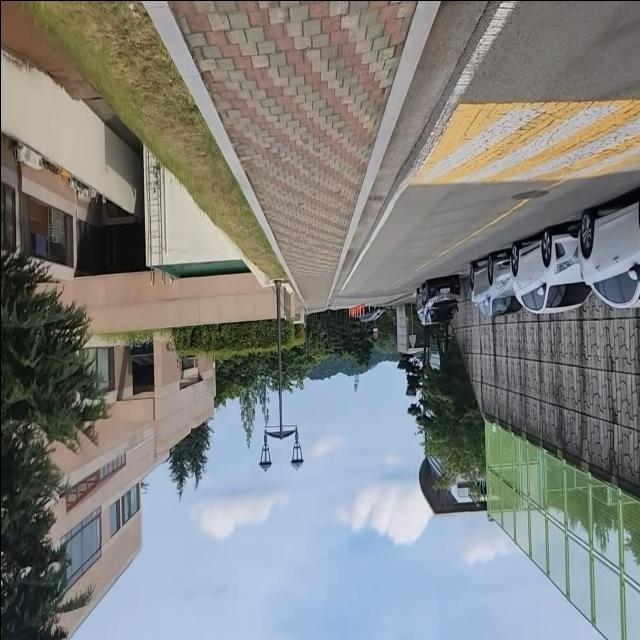road: (325, 0, 640, 307)
sidewalk: (145, 0, 442, 305)
